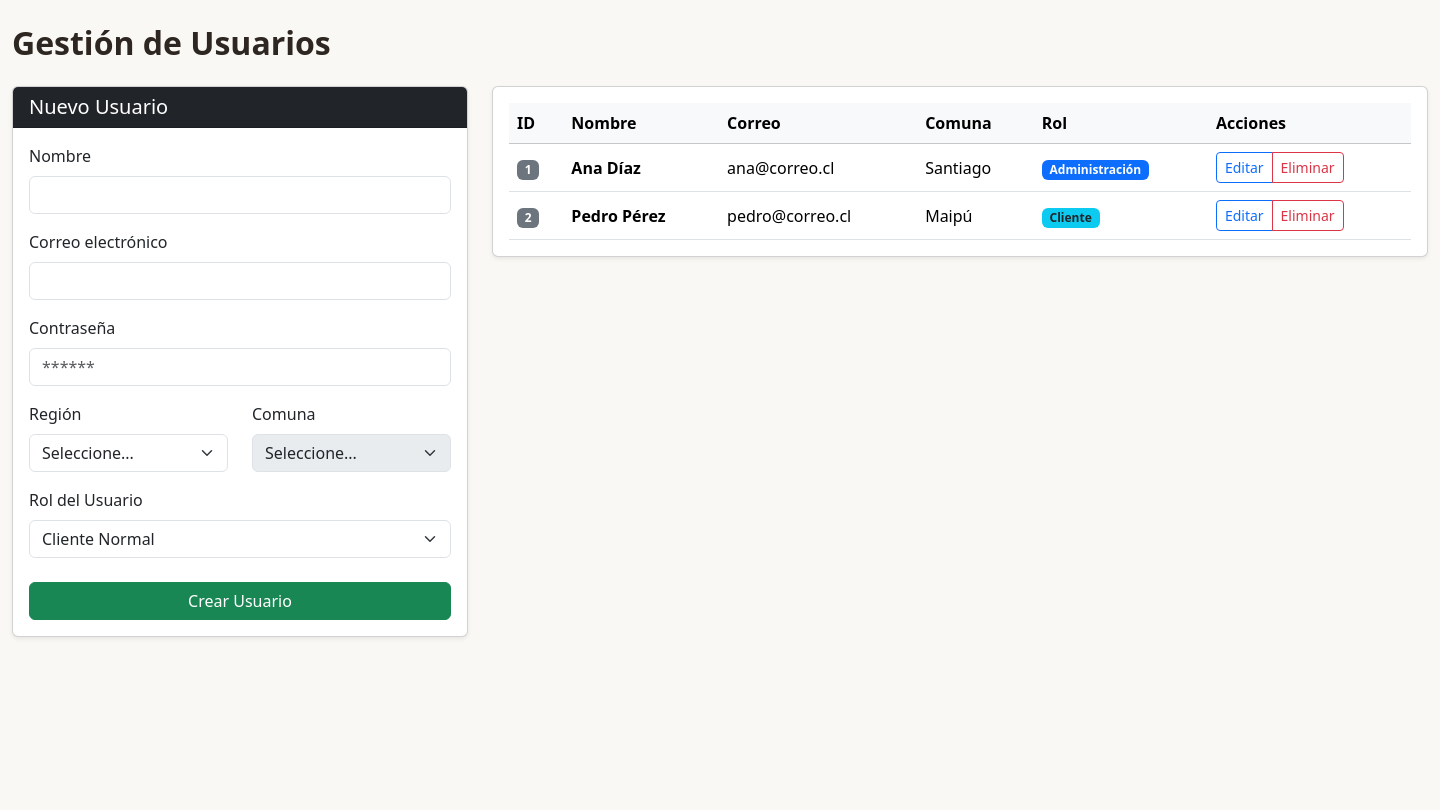
Test: Vista de Administración de Usuarios › Debe enviar una petición PUT al actualizar un usuario
The width and height of the screenshot is (1440, 810).
Later steps or results of the test are not shown.
Expected: the text "Ana Díaz" is shown, [563,144,719,192]
Step 1. Click the button "Editar" in the row of "Ana Díaz" → (1244, 168), box [1216,152,1273,183]
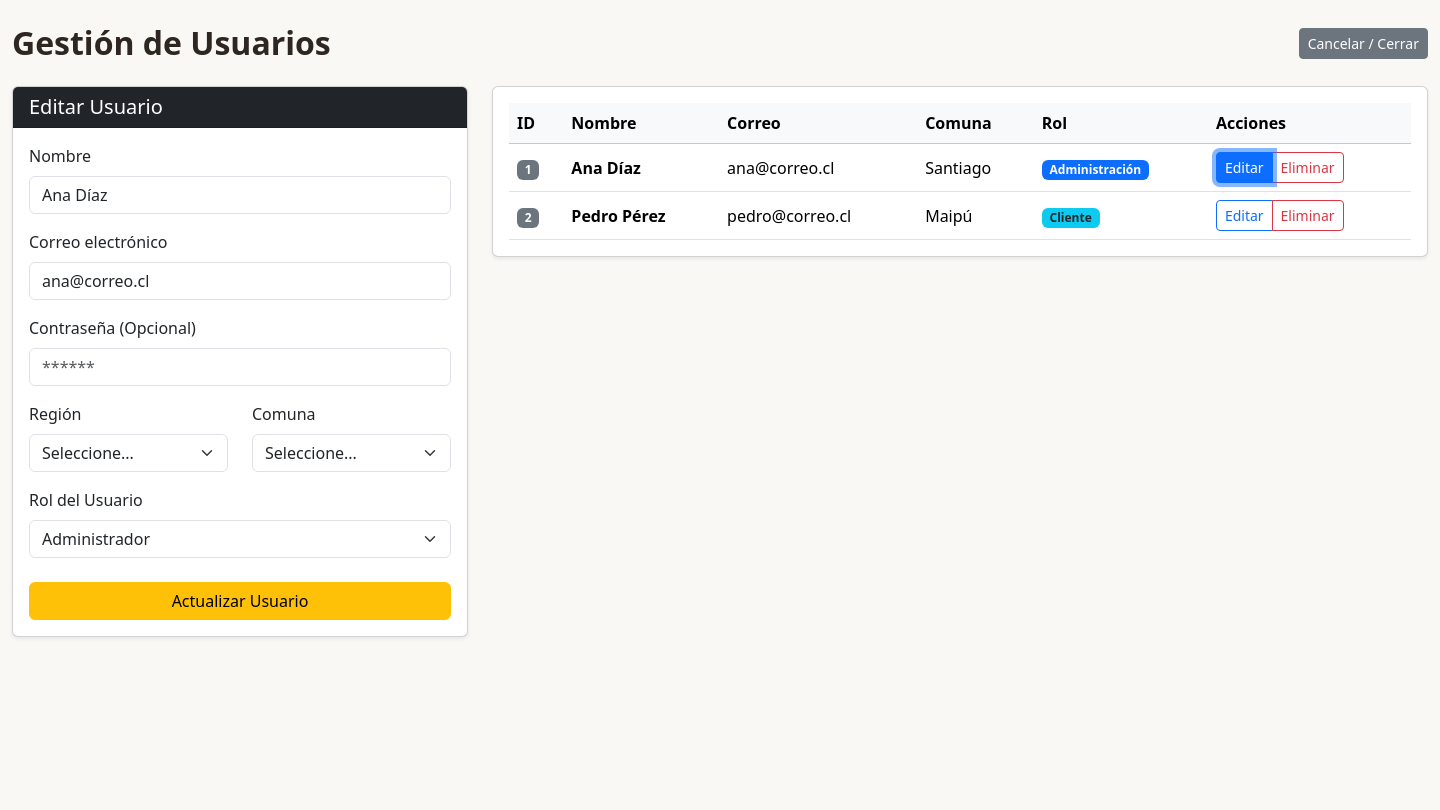
Expected: the heading "Editar Usuario" is shown, [29,93,163,120]
